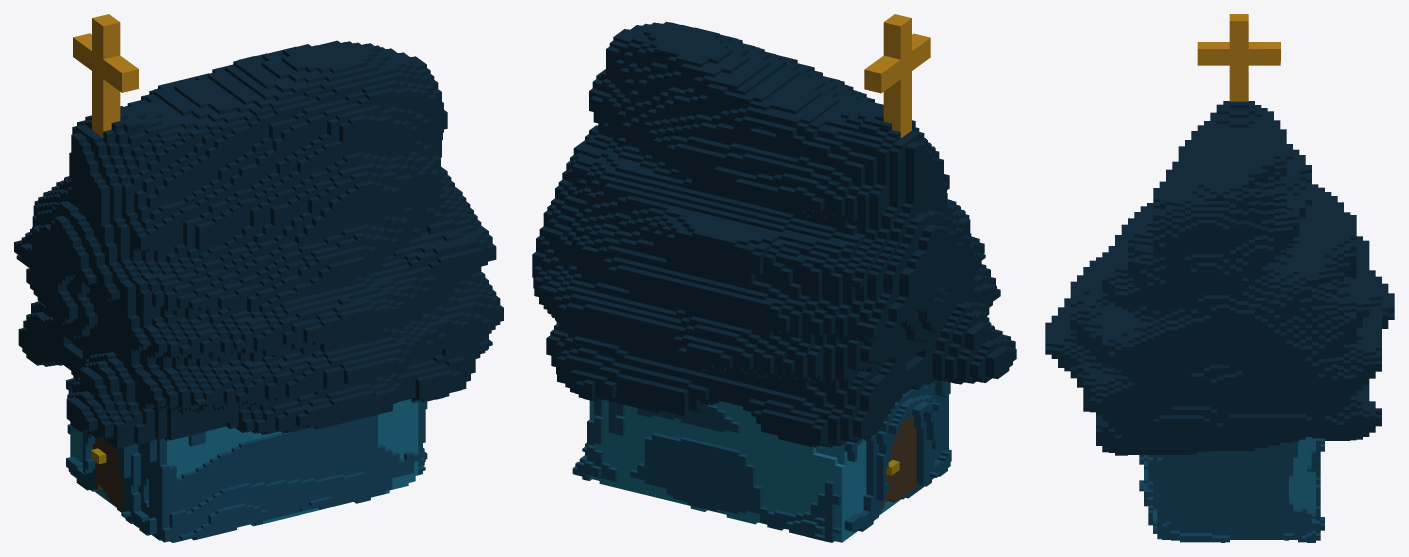
Rendered from CoralCemetery.fbx.
The picture shows the model from 3 angles, left to right: view 1: azimuth 30°, elevation 25°; view 2: azimuth 150°, elevation 25°; view 3: azimuth 270°, elevation 25°; orthographic projection. The views are drawn at different scales.
Parts seen in each view (by area): view 1: Cube.021; view 2: Cube.021; view 3: Cube.021.
Boxes of the visible parts, x1,y1,x2,y2 form: Cube.021: (14,14,503,542); Cube.021: (532,14,1016,542); Cube.021: (1045,14,1394,542).
Bounding box in the file's own units: 472 × 586 × 443.
